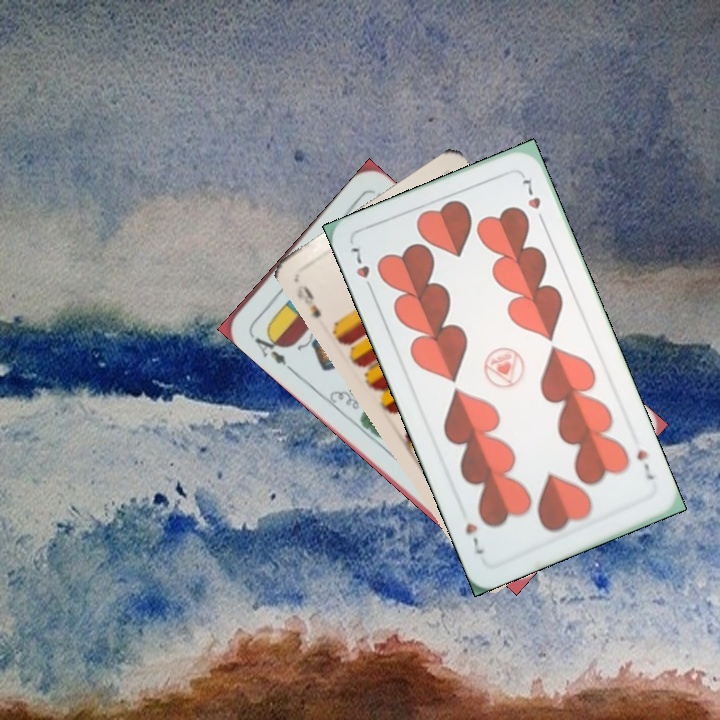E9: (292, 280, 324, 321)
EA: (245, 327, 294, 373)
H7: (346, 243, 377, 296), (632, 445, 657, 483)
